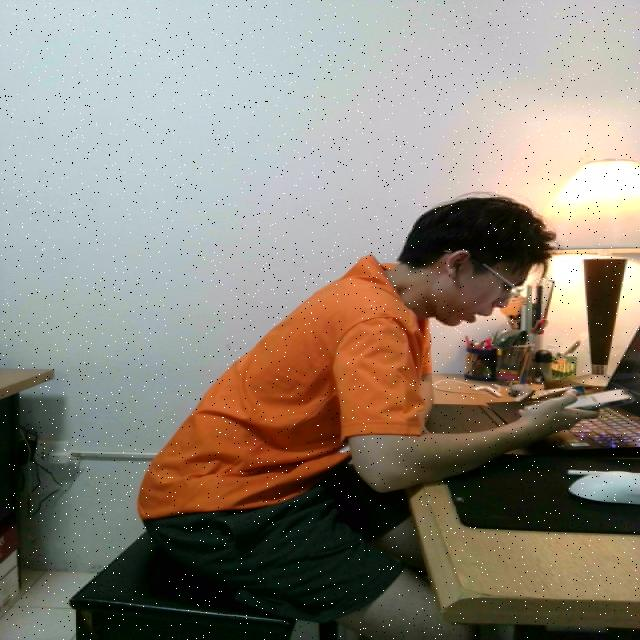Bad: (111, 193, 558, 577)
